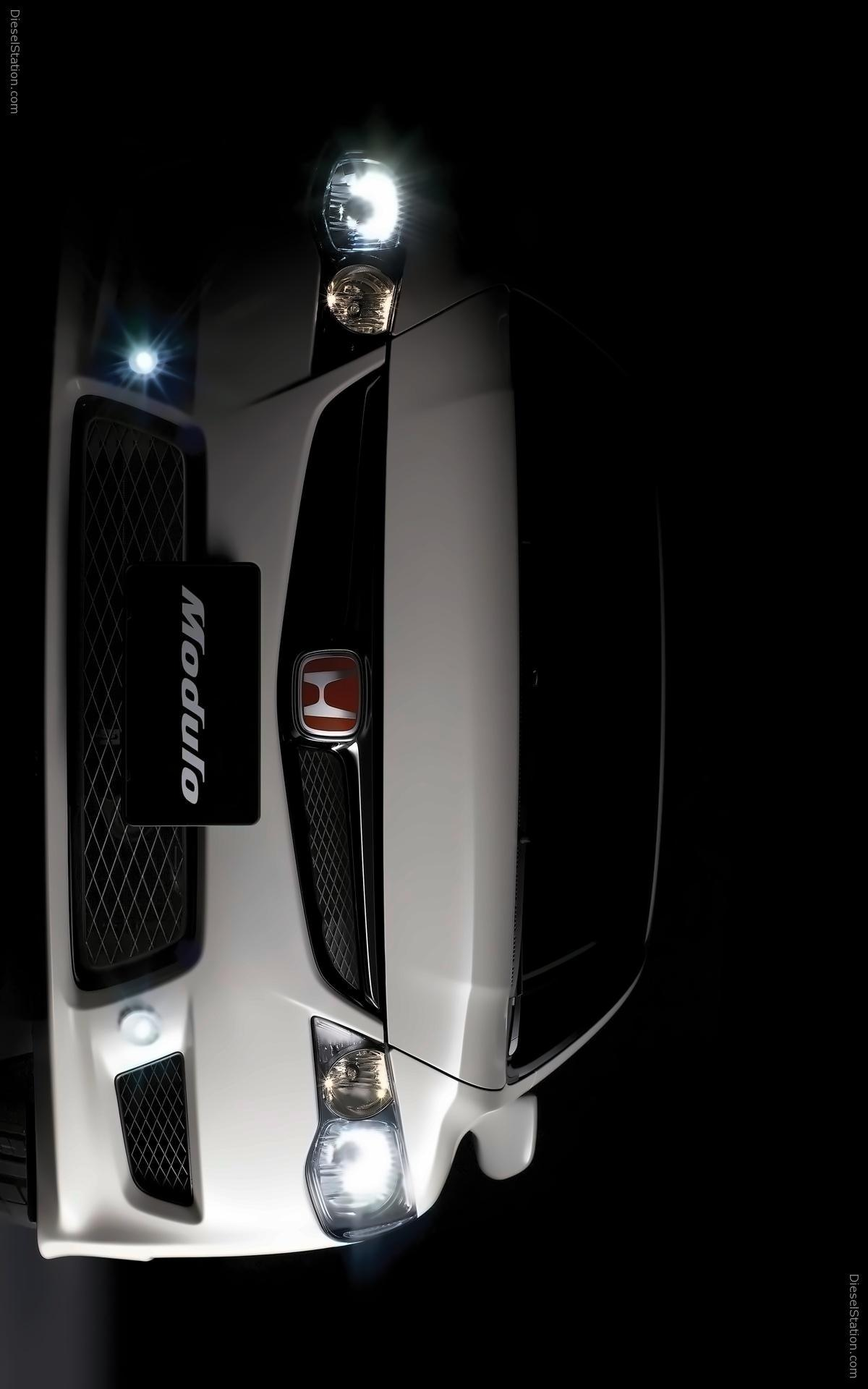Car hood: (374, 283, 528, 1088)
Front bumper: (0, 107, 321, 1272)
Headlight - -L-: (294, 1011, 424, 1260)
Headlight - -R-: (294, 104, 420, 390)
Side mirror - -L-: (454, 1073, 549, 1201)
